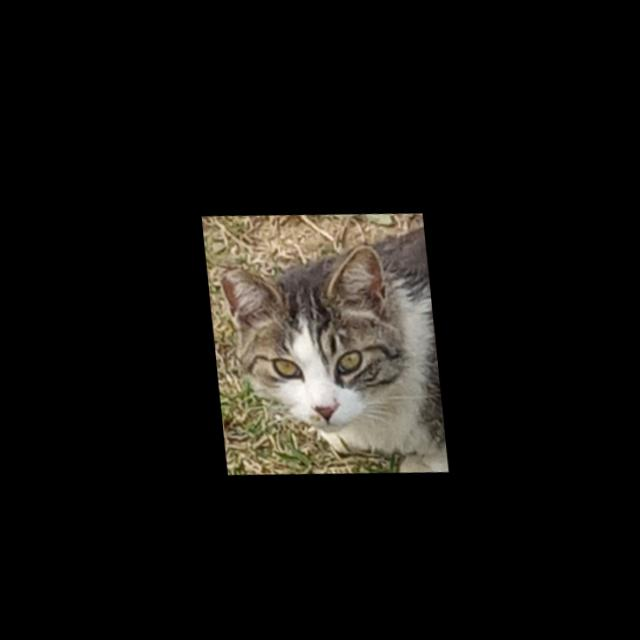animals: (213, 226, 421, 444)
